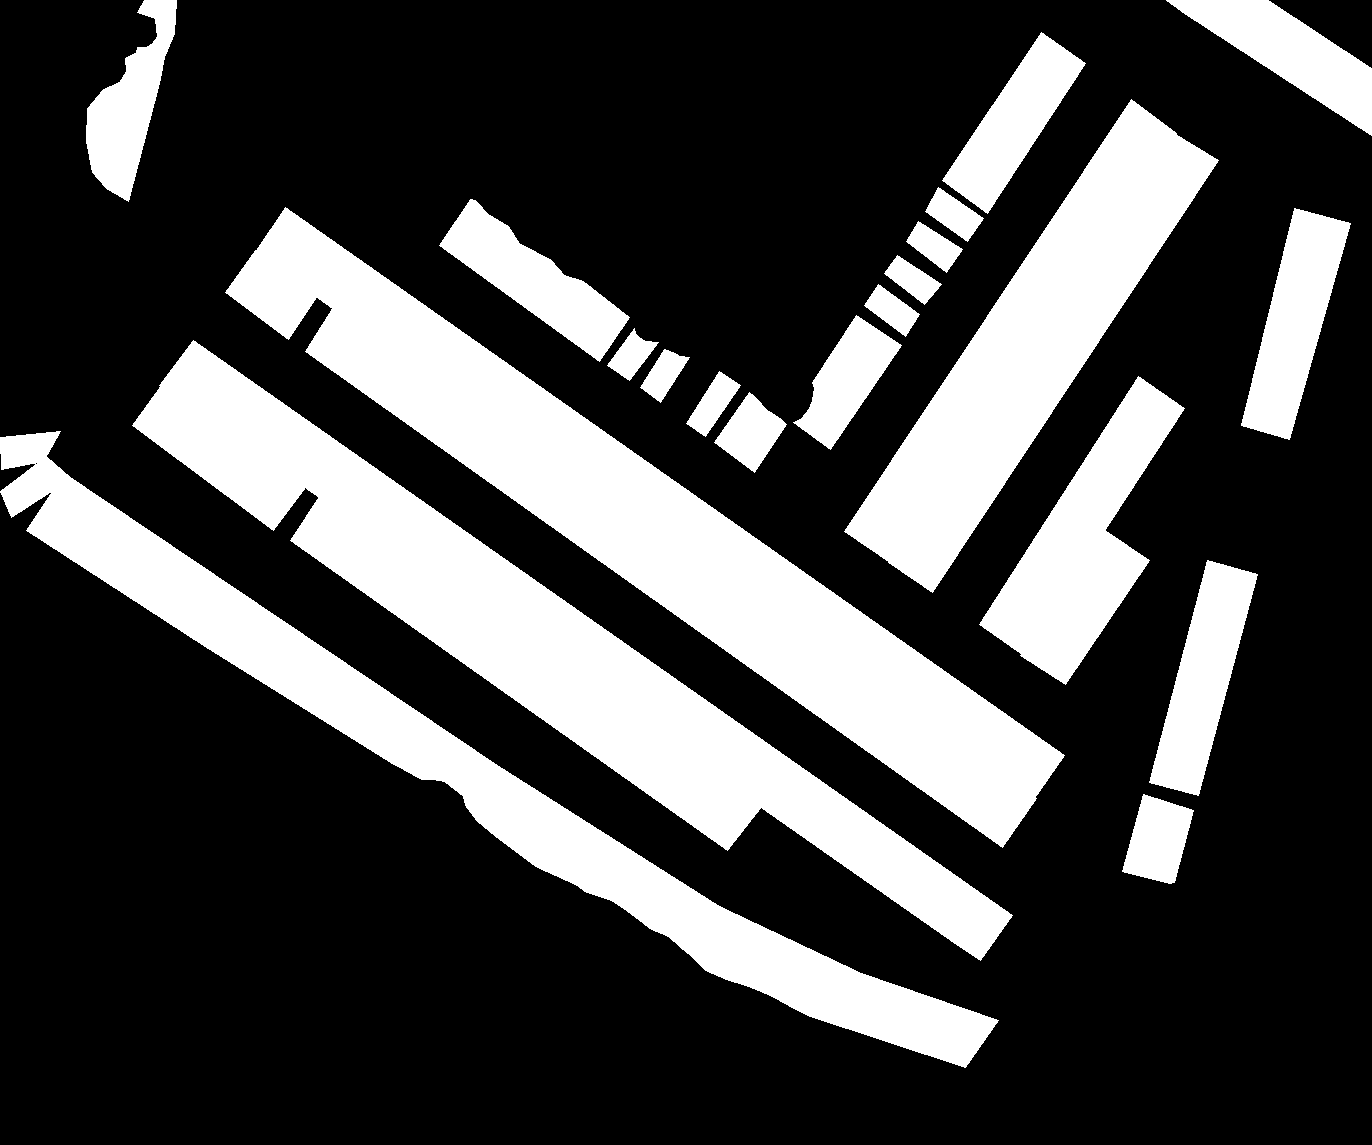parkingspot: (26, 473, 998, 1068), (160, 340, 1012, 960), (254, 207, 1064, 801), (305, 305, 1036, 847), (289, 493, 763, 850), (844, 99, 1176, 563), (888, 132, 1218, 592), (979, 376, 1184, 655), (439, 199, 629, 361), (1165, 0, 1372, 134), (132, 382, 308, 530), (942, 32, 1085, 213), (1149, 561, 1257, 795), (1241, 208, 1350, 439), (1020, 529, 1149, 684), (85, 0, 175, 201), (793, 314, 901, 449), (224, 250, 318, 340), (1122, 794, 1193, 883), (714, 392, 786, 472), (0, 456, 71, 517), (686, 371, 740, 436), (925, 187, 983, 242), (864, 284, 918, 336), (906, 221, 962, 272), (884, 255, 941, 304), (607, 328, 658, 381), (640, 349, 689, 402), (0, 431, 60, 469)
